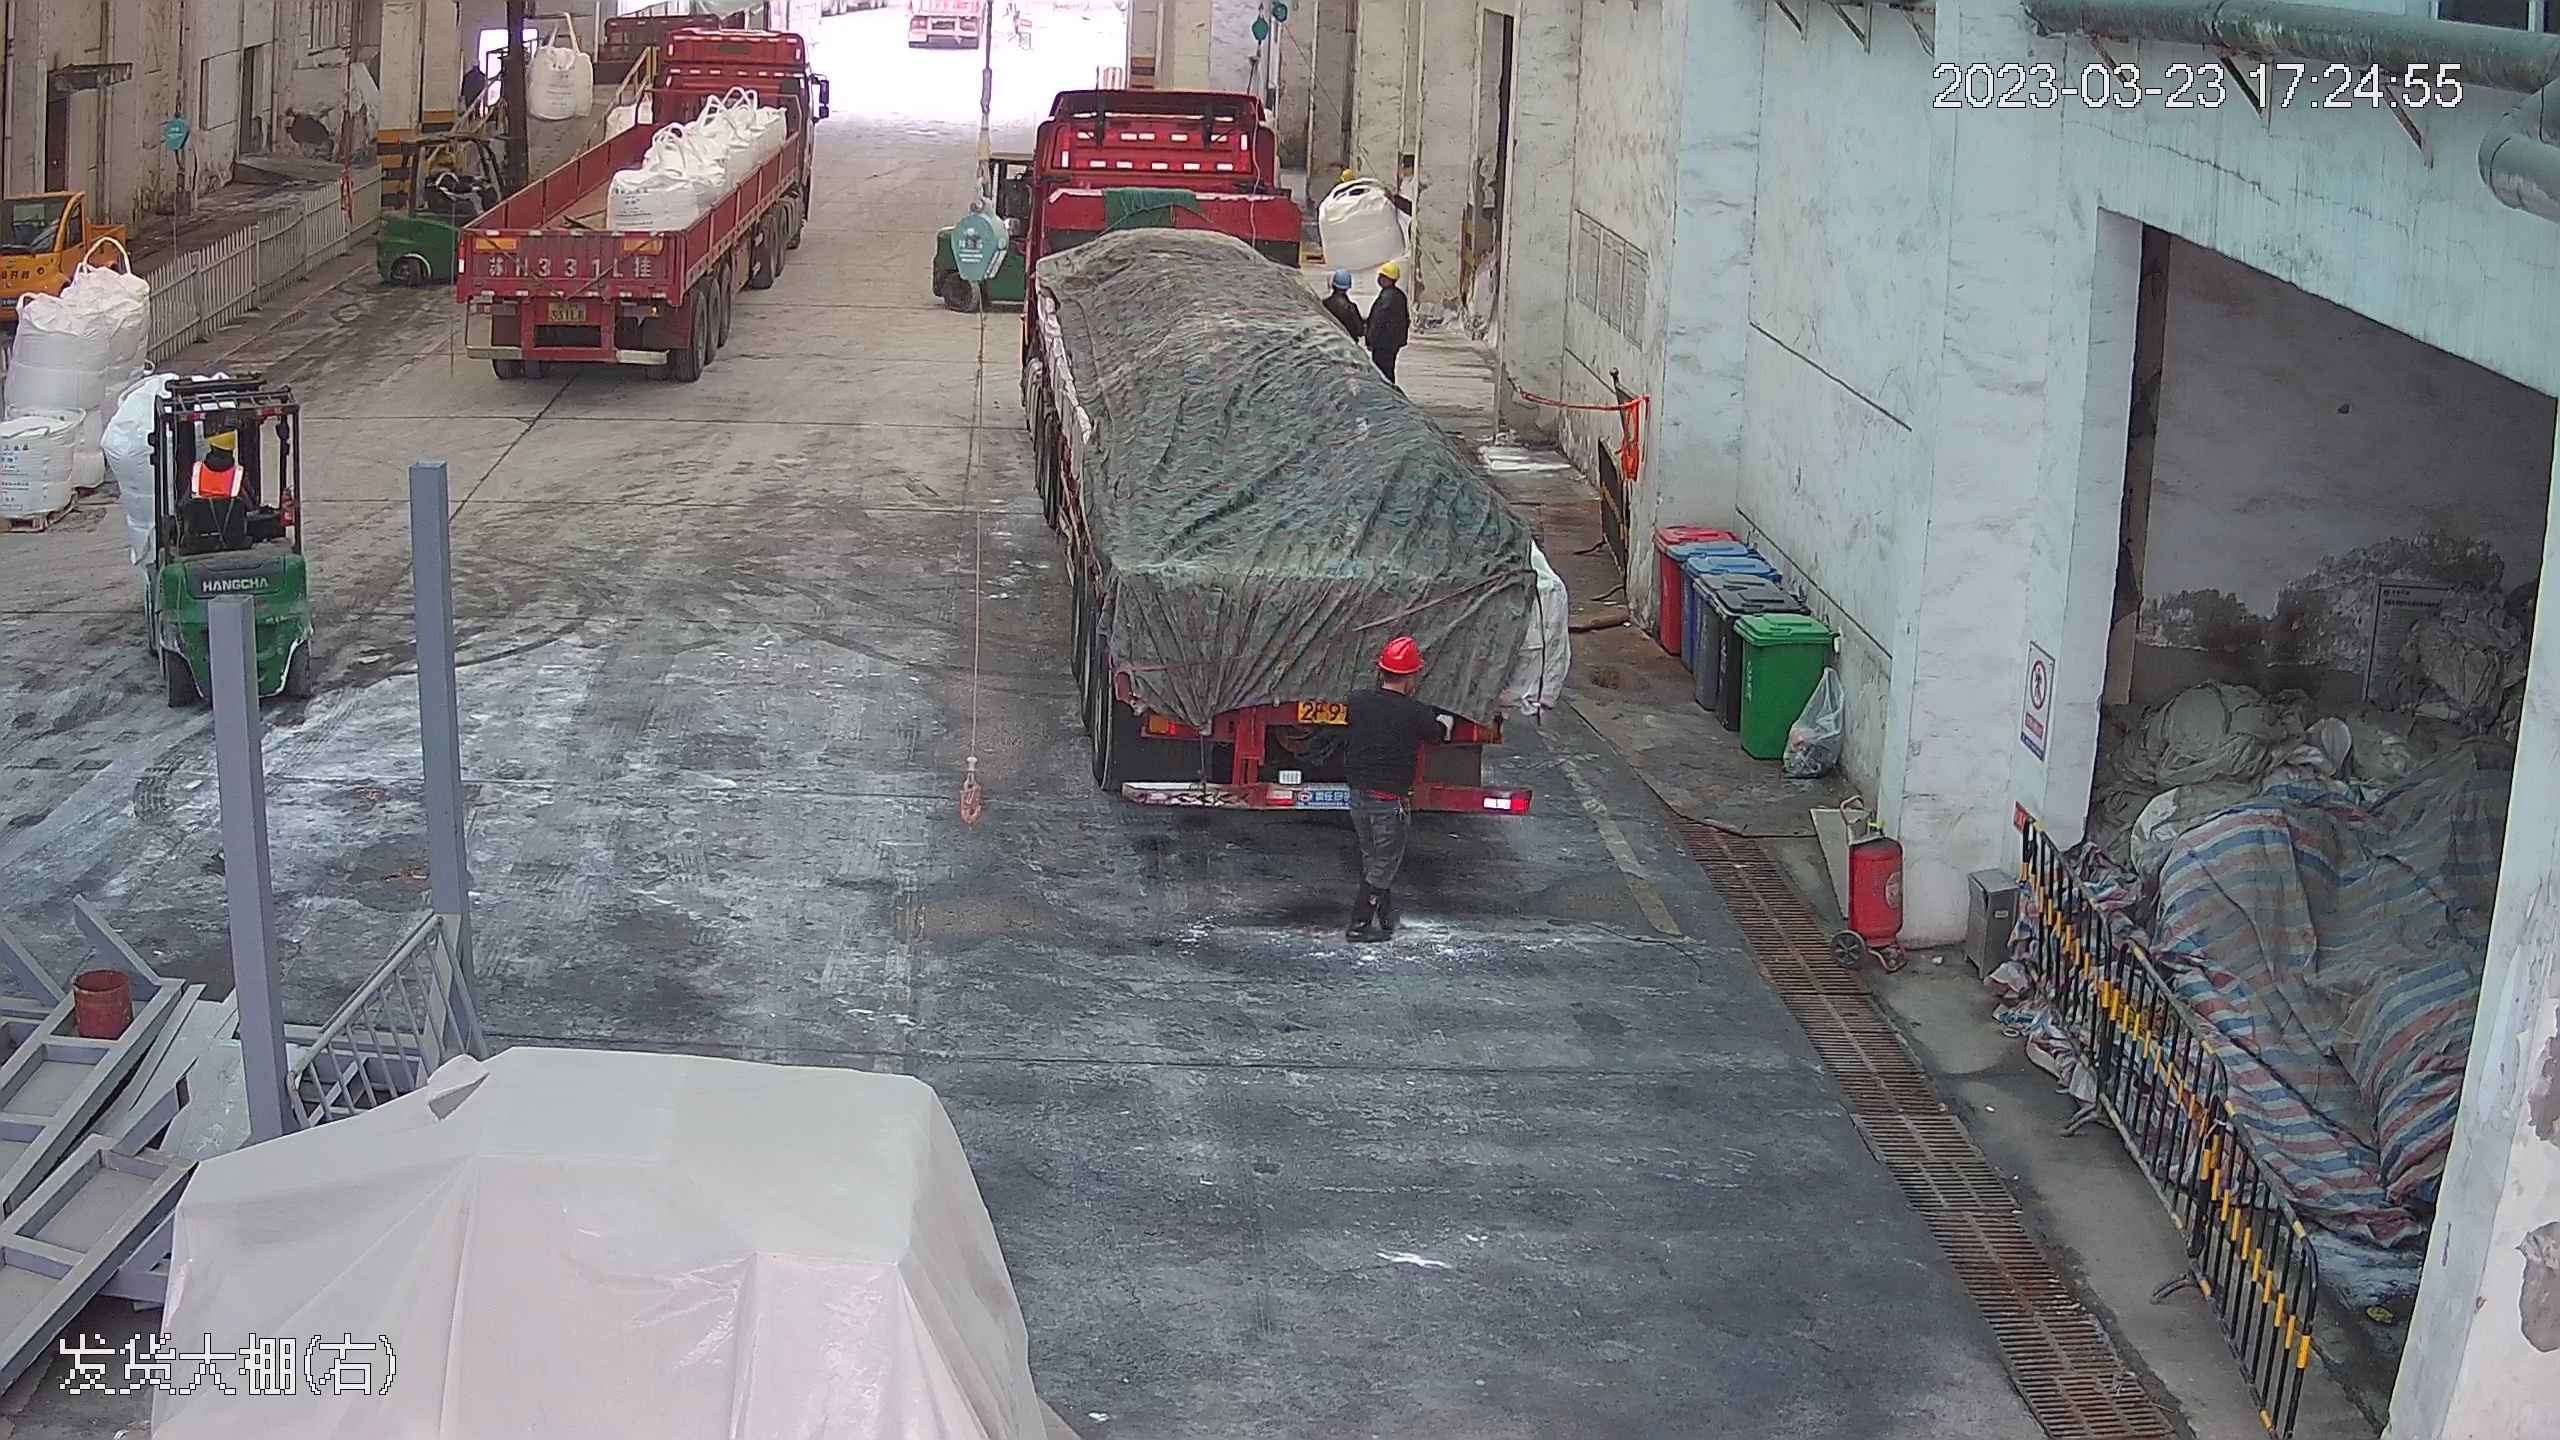head: (1346, 635, 1437, 729), (190, 425, 247, 494), (1368, 256, 1412, 308), (1323, 269, 1358, 315)
helmet: (1374, 634, 1427, 675), (205, 425, 236, 452), (1374, 259, 1401, 279), (1329, 269, 1351, 289)
people: (1336, 636, 1483, 937), (1364, 255, 1414, 386)
truck: (1004, 56, 1555, 823), (458, 16, 826, 384)
